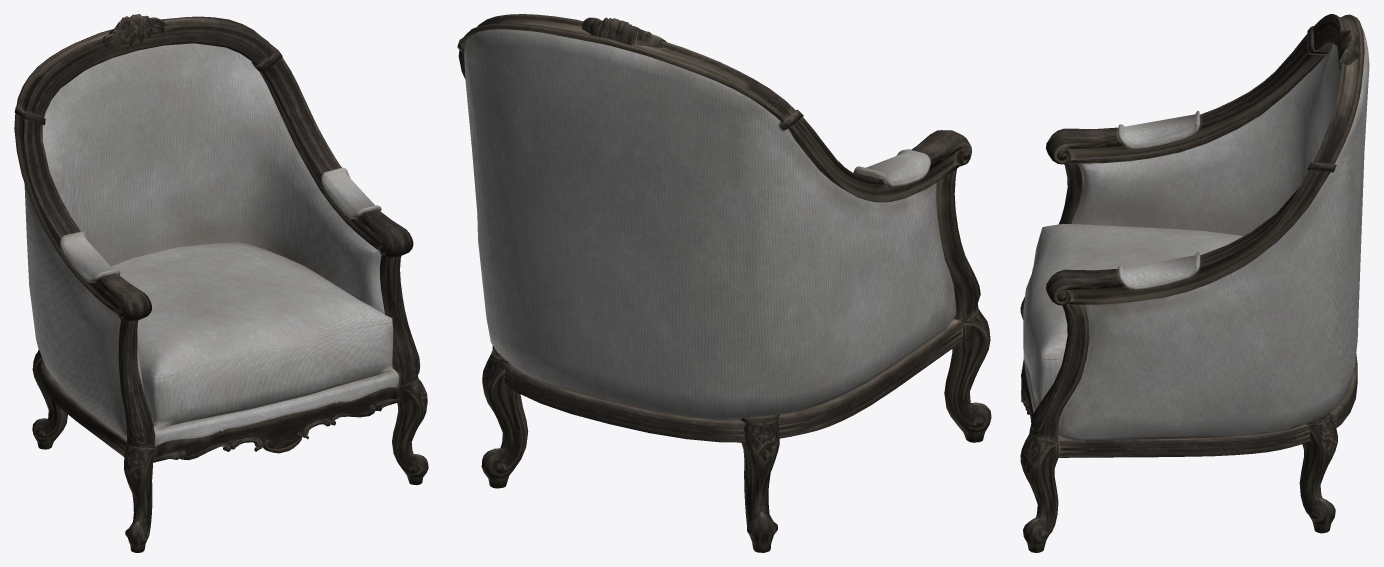
Rendered from ArmChair_01_1k.gltf.
3 views of the same model, side by side, from view 1: azimuth 30°, elevation 25°; view 2: azimuth 150°, elevation 25°; view 3: azimuth 270°, elevation 25° (orthographic). The views are drawn at different scales.
Parts seen in each view (by area): view 1: ArmChair_01; view 2: ArmChair_01; view 3: ArmChair_01.
Boxes of the visible parts, x1,y1,x2,y2 form: ArmChair_01: [14, 14, 428, 552]; ArmChair_01: [457, 14, 991, 552]; ArmChair_01: [1020, 14, 1369, 552].
Bounding box in the file's own units: 0.8485 × 1.07 × 0.7658.
Materials: 1 (1 with a texture image).
